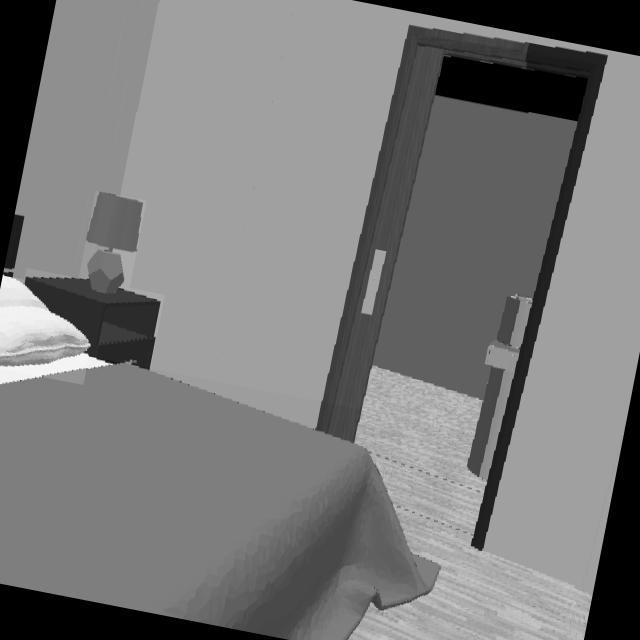bed: (0, 357, 440, 640)
lamp: (86, 192, 143, 296)
nighttable: (23, 279, 161, 367)
pillow: (0, 276, 90, 366)
